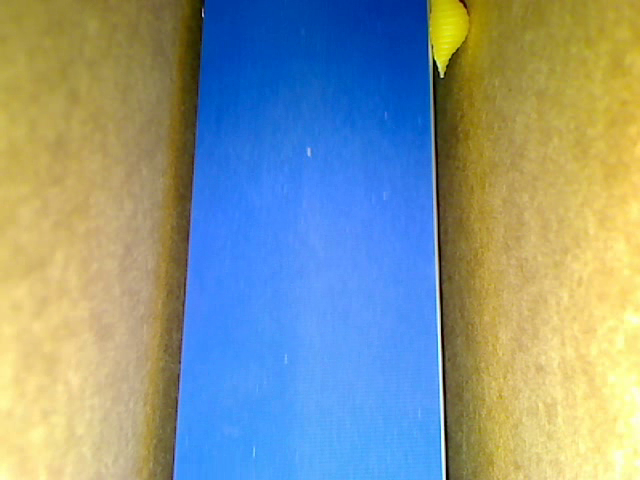shell: (426, 1, 469, 80)
